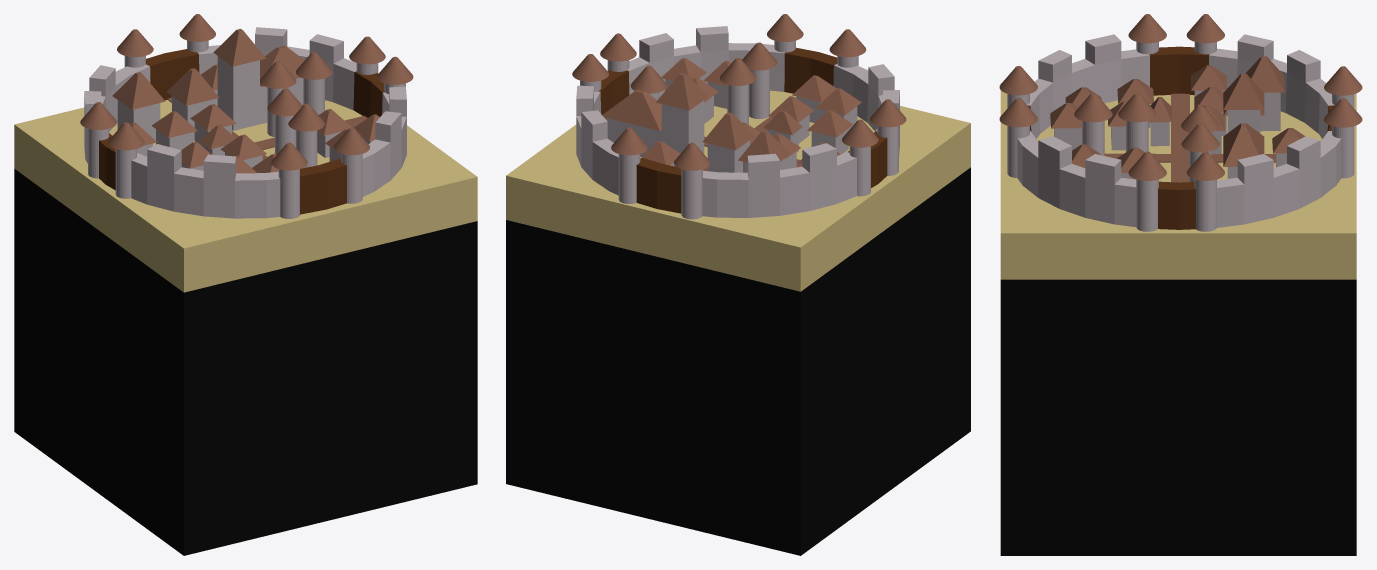
The model's file is Tile-City.glb.
3 renders of one model, left to right at view 1: azimuth 30°, elevation 25°; view 2: azimuth 150°, elevation 25°; view 3: azimuth 270°, elevation 25°, orthographic. The views are drawn at different scales.
Visible parts, largest first — view 1: Cube; view 2: Cube; view 3: Cube.
Part boxes in pixels (x1,y1,x2,y2): Cube: (14,14,477,555); Cube: (506,14,970,555); Cube: (999,14,1362,555).
Size of the model in its own units: 2.05 by 2.6 by 2.04.
